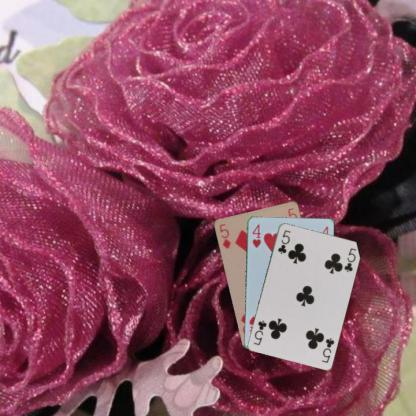4h: (250, 221, 262, 249)
5c: (319, 335, 335, 364), (275, 228, 292, 255)
5d: (216, 221, 233, 250)
